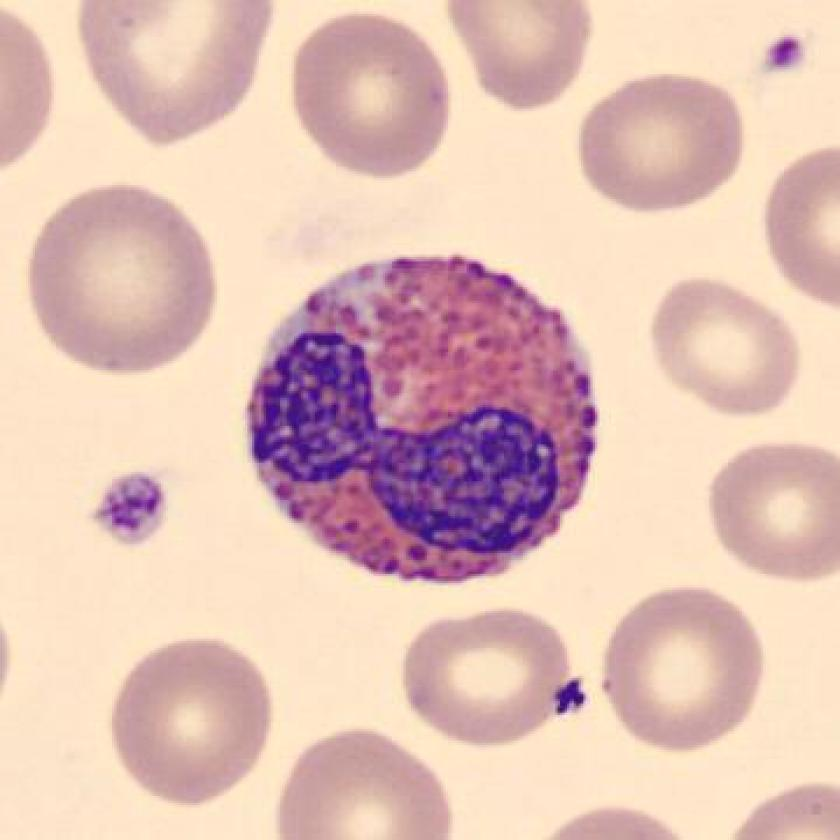eosinophil: (237, 242, 617, 598)
